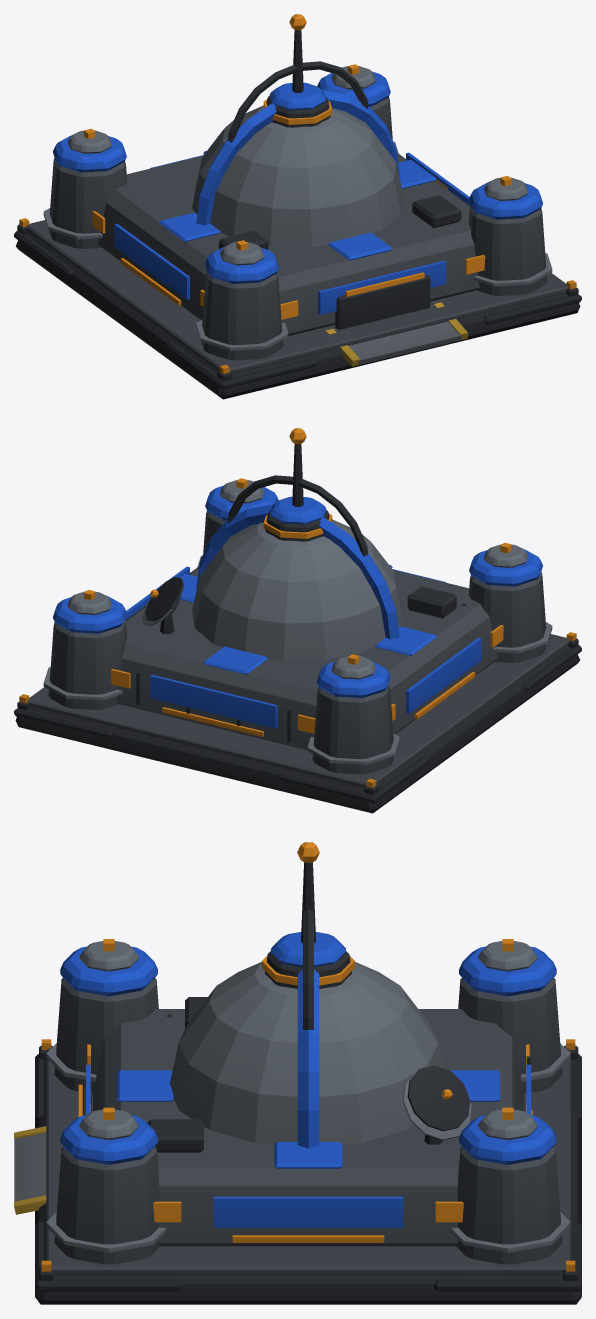
The picture shows the model from 3 angles, top to bottom: view 1: azimuth 30°, elevation 25°; view 2: azimuth 150°, elevation 25°; view 3: azimuth 270°, elevation 25°; orthographic projection. The views are drawn at different scales.
Visible parts, largest first — view 1: hull; view 2: hull; view 3: hull.
Boxes of the visible parts, x1=… form: hull: x1=14, y1=14, x2=581, y2=399; hull: x1=14, y1=428, x2=581, y2=813; hull: x1=14, y1=842, x2=581, y2=1304.
Size of the model in its own units: 2.88 by 2.22 by 2.99.
